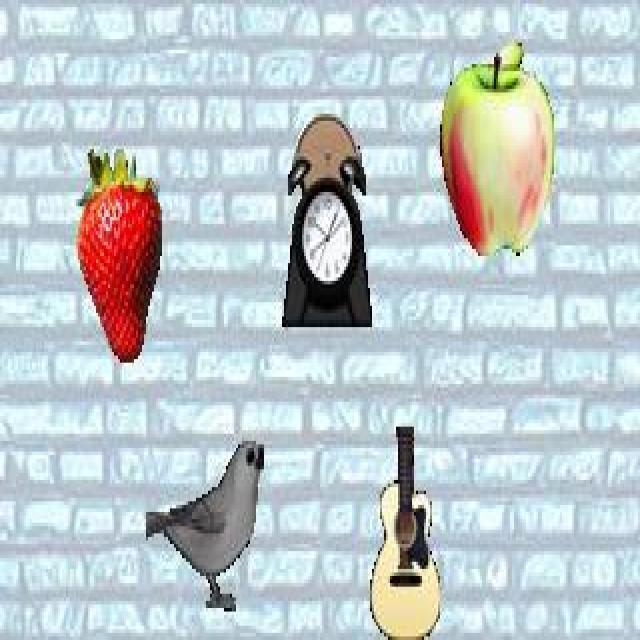Other Objects: (438, 38, 556, 258), (146, 437, 264, 613), (280, 110, 373, 330)
